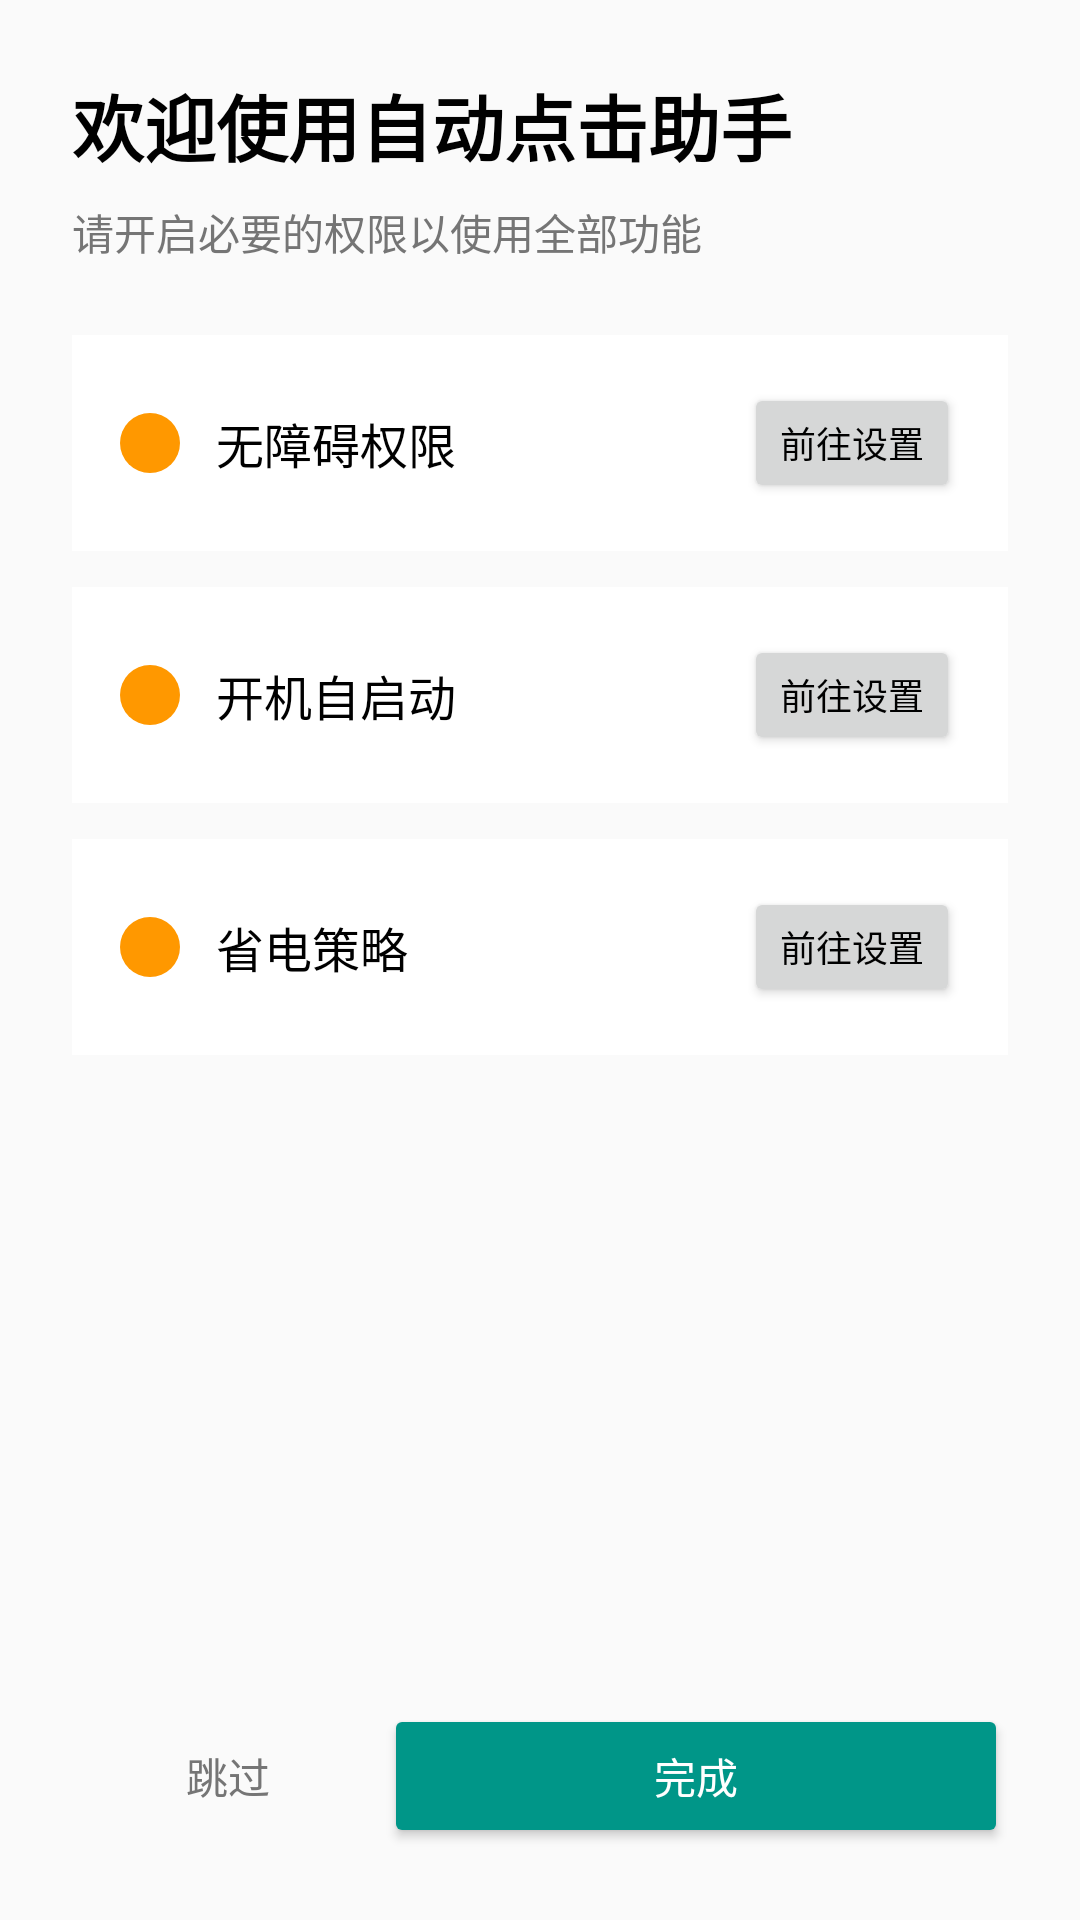

Named icons in this screenshot (1080x1920) and their bounding boxes, (x1, y1, x2, y2):
dot pending: (120, 413, 180, 473), (120, 665, 180, 725), (120, 917, 180, 977)
